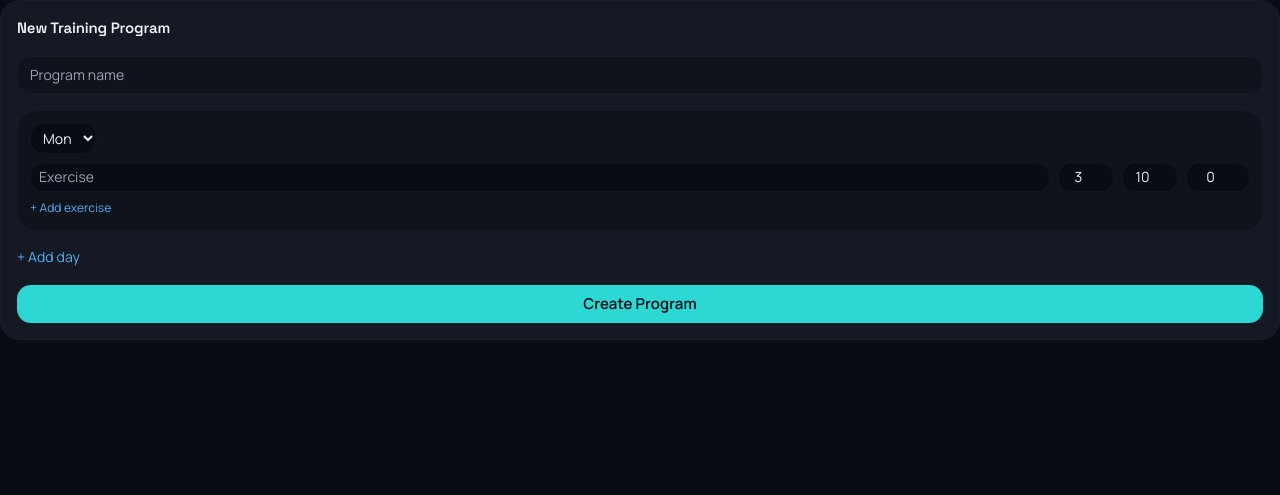
it: TrainingProgramForm › can add and remove days
Click the button "+ Add day". click: (48, 257)
box: [17,247,80,267]
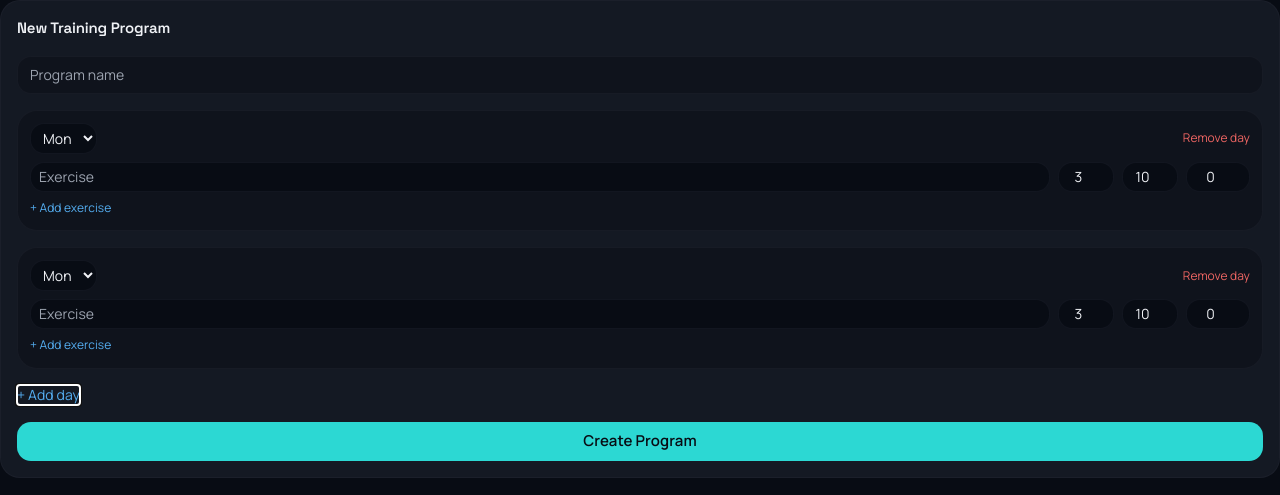
Now the number of buttons "Remove day" is 2
Click the 1st button "Remove day". click: (1216, 138)
box: [1183,130,1250,146]
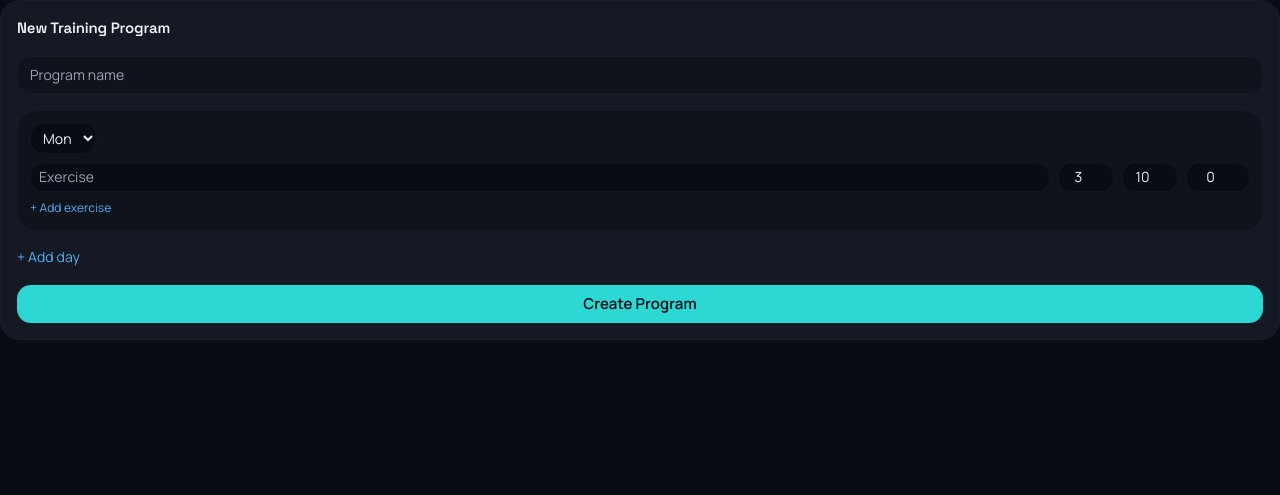
Now no buttons "Remove day" are shown
